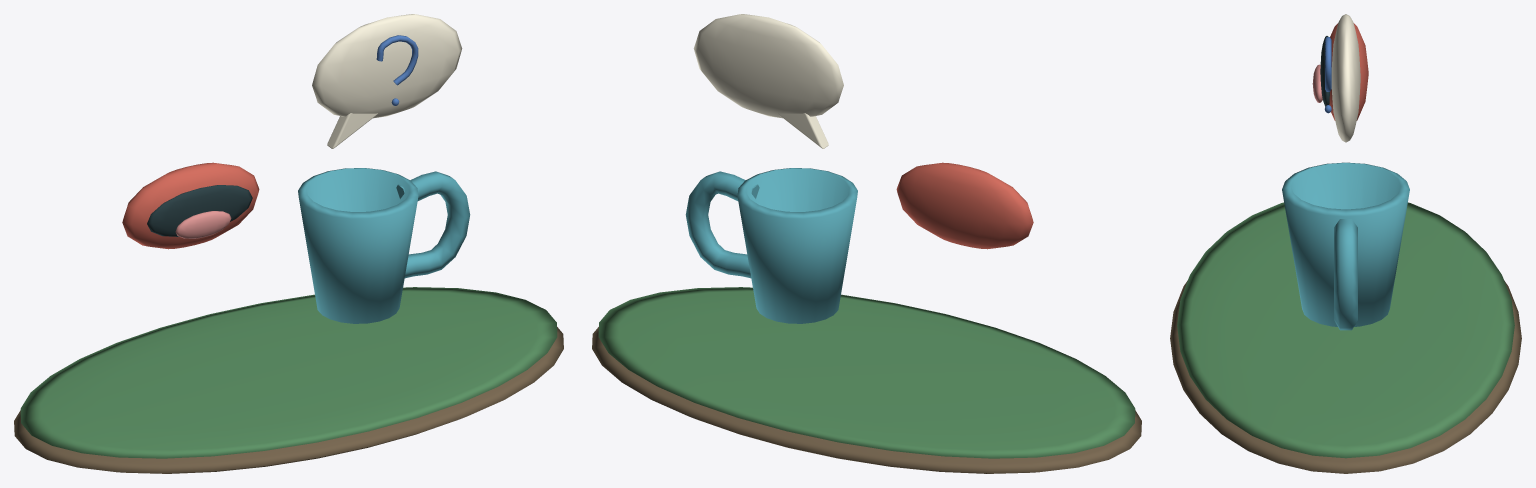
Rendered from drinking.glb.
The picture shows the model from 3 angles, left to right: view 1: azimuth 30°, elevation 25°; view 2: azimuth 150°, elevation 25°; view 3: azimuth 270°, elevation 25°; orthographic projection. The views are drawn at different scales.
Visible parts, largest first — view 1: drinking_surface_01, drinking_surface_07, drinking_surface_05, drinking_surface_00, drinking_surface_02, drinking_surface_03, drinking_surface_04, drinking_surface_06; view 2: drinking_surface_01, drinking_surface_07, drinking_surface_05, drinking_surface_00, drinking_surface_02; view 3: drinking_surface_01, drinking_surface_07, drinking_surface_00, drinking_surface_05, drinking_surface_02, drinking_surface_06.
Part boxes in pixels (<box>): drinking_surface_01: <box>20,287,557,458</box>; drinking_surface_07: <box>298,168,470,323</box>; drinking_surface_05: <box>312,14,462,148</box>; drinking_surface_00: <box>14,327,563,473</box>; drinking_surface_02: <box>122,162,259,249</box>; drinking_surface_03: <box>147,185,252,236</box>; drinking_surface_04: <box>175,211,231,238</box>; drinking_surface_06: <box>376,35,418,105</box>; drinking_surface_01: <box>598,287,1135,458</box>; drinking_surface_07: <box>685,168,857,323</box>; drinking_surface_05: <box>693,14,843,148</box>; drinking_surface_00: <box>592,327,1141,473</box>; drinking_surface_02: <box>896,162,1033,249</box>; drinking_surface_01: <box>1177,202,1514,458</box>; drinking_surface_07: <box>1282,162,1409,330</box>; drinking_surface_00: <box>1170,280,1521,473</box>; drinking_surface_05: <box>1331,14,1360,142</box>; drinking_surface_02: <box>1329,23,1368,120</box>; drinking_surface_06: <box>1324,37,1331,113</box>.
Bounding box in the file's own units: 4.56 × 2.97 × 2.5.
